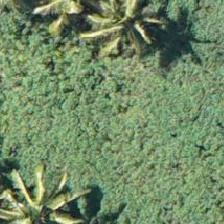coconut_tree: (84, 0, 174, 59), (0, 168, 84, 223)
